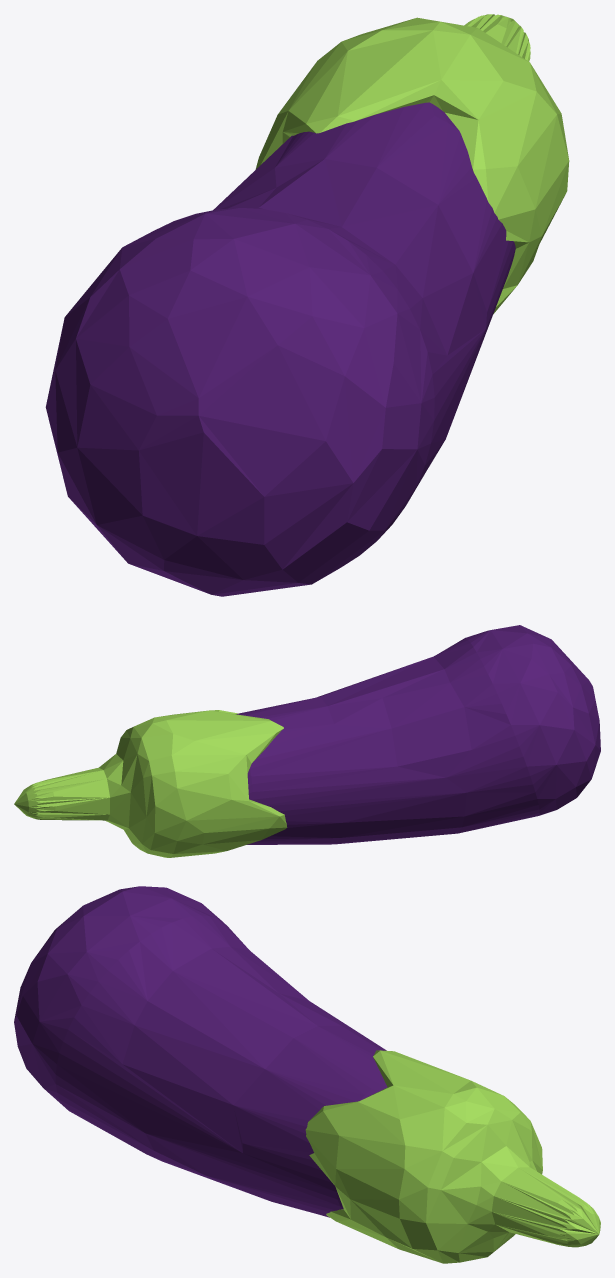
Rendered from Eggplant.gltf.
The picture shows the model from 3 angles, top to bottom: view 1: azimuth 30°, elevation 25°; view 2: azimuth 150°, elevation 25°; view 3: azimuth 270°, elevation 25°; orthographic projection. The views are drawn at different scales.
Parts seen in each view (by area): view 1: node-0; view 2: node-0; view 3: node-0.
Boxes of the visible parts, box(x1,y1,x2,y2) form: node-0: box(45, 14, 569, 596); node-0: box(14, 625, 600, 857); node-0: box(14, 886, 600, 1263).
Size of the model in its own units: 1524 by 674 by 1534.
